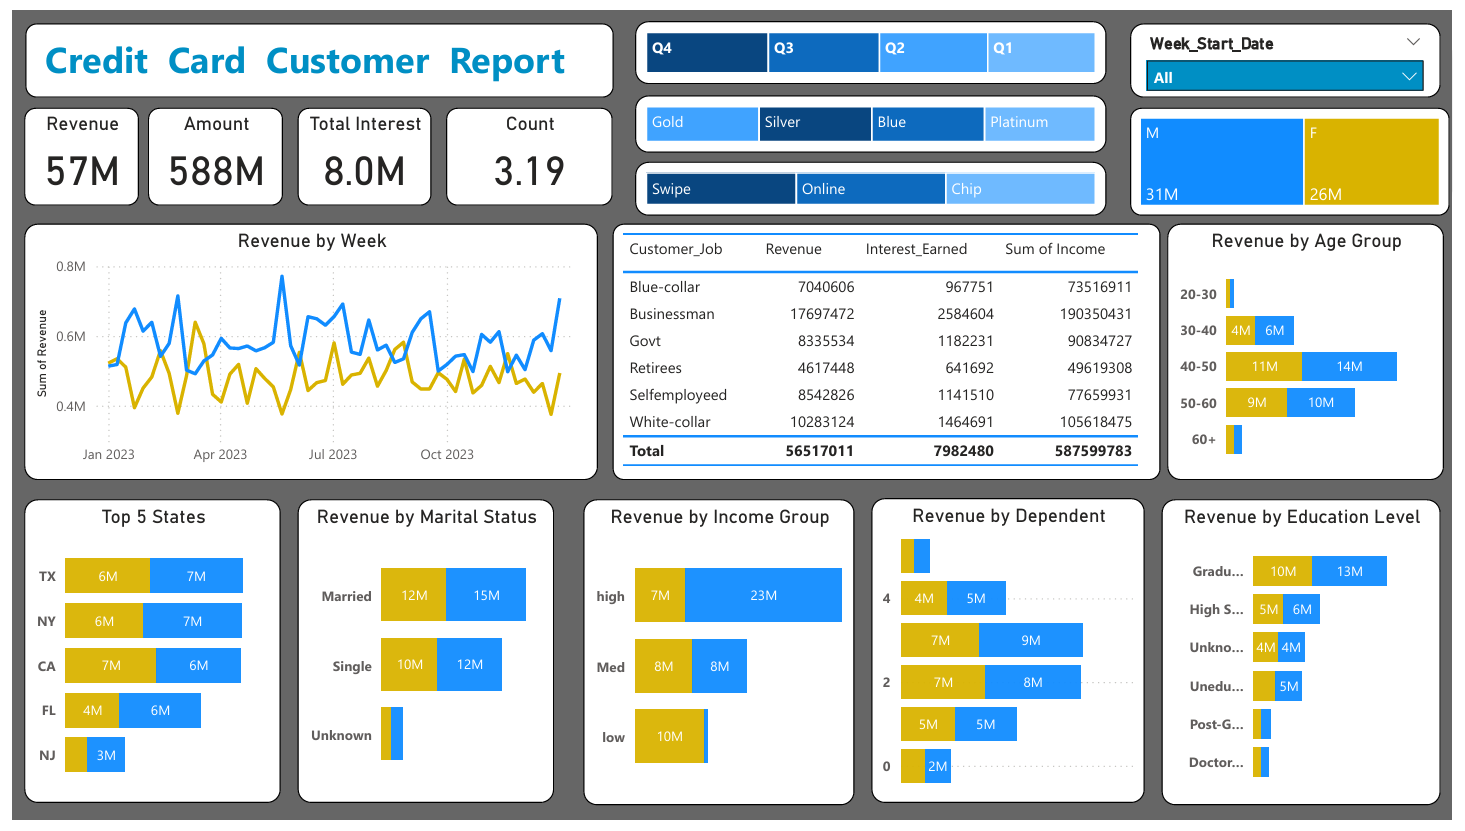

Layout of this report page (visuals, bound fields, positions):
{"tool":"powerbi","page":{"name":"CC Customer","canvas":[1280,720],"ordinal":2},"visuals":[{"type":"textbox","box":[11,11,522.8,65.9],"z":0},{"type":"barChart","title":"Revenue by Income Group","fields":{"Category":["credit_card cust_details.IncomeGroup"],"Y":["Sum(credit_card cc_details.Revenue)"],"Series":["credit_card cust_details.Gender"]},"box":[506.8,434.4,241.7,271.2],"z":1000},{"type":"tableEx","fields":{"Values":["credit_card cust_details.Customer_Job","Sum(credit_card cc_details.Revenue)","Sum(credit_card cc_details.Interest_Earned)","Sum(credit_card cust_details.Income)"]},"box":[532.5,189,487.1,228.2],"z":2000},{"type":"card","title":"Revenue","fields":{"Values":["Sum(credit_card cc_details.Revenue)"]},"box":[9.8,85.9,101.8,87.1],"z":3000},{"type":"card","title":"Amount","fields":{"Values":["Sum(credit_card cust_details.Income)"]},"box":[120.2,85.9,120.2,87.1],"z":4000},{"type":"card","title":"Total Interest","fields":{"Values":["Sum(credit_card cc_details.Interest_Earned)"]},"box":[252.8,85.9,119,87.1],"z":5000},{"type":"slicer","fields":{"Values":["credit_card cc_details.Week_Start_Date"]},"box":[992.6,11,276.1,66.3],"z":6000},{"type":"treemap","fields":{"Group":["credit_card cc_details.Qtr"],"Values":["Avg(credit_card cust_details.ï»¿Client_Num)"]},"box":[553.4,8.6,418.4,56.4],"z":7000},{"type":"treemap","fields":{"Group":["credit_card cc_details.Card_Category"],"Values":["Avg(credit_card cust_details.ï»¿Client_Num)"]},"box":[553.4,74.8,418.4,51.5],"z":8000},{"type":"card","title":"Count","fields":{"Values":["Avg(credit_card cust_details.Cust_Satisfaction_Score)"]},"box":[385.3,85.9,147.2,87.1],"z":9000},{"type":"lineChart","title":"Revenue by Week","fields":{"Y":["Sum(credit_card cc_details.Revenue)"],"Series":["credit_card cust_details.Gender"],"Category":["credit_card cc_details.Week_Start_Date.Variation.Date Hierarchy.Year","credit_card cc_details.Week_Start_Date.Variation.Date Hierarchy.Month","credit_card cc_details.Week_Start_Date.Variation.Date Hierarchy.Day"]},"box":[9.8,189,510.4,228.2],"z":10000},{"type":"treemap","fields":{"Group":["credit_card cust_details.Gender"],"Values":["Sum(credit_card cc_details.Revenue)"]},"box":[992.6,85.9,284.7,95.7],"z":11000},{"type":"barChart","title":"Revenue by Dependent","fields":{"Category":["credit_card cust_details.Dependent_Count"],"Y":["Sum(credit_card cc_details.Revenue)"],"Series":["credit_card cust_details.Gender"]},"box":[763.2,433.1,242.9,271.2],"z":12000},{"type":"barChart","title":"Revenue by Age Group","fields":{"Category":["credit_card cust_details.AgeGroup"],"Y":["Sum(credit_card cc_details.Revenue)"],"Series":["credit_card cust_details.Gender"]},"box":[1025.8,189,246.6,228.2],"z":13000},{"type":"barChart","title":"Revenue by Education Level","fields":{"Category":["credit_card cust_details.Education_Level"],"Y":["Sum(credit_card cc_details.Revenue)"],"Series":["credit_card cust_details.Gender"]},"box":[1020.9,434.4,247.9,271.2],"z":14000},{"type":"barChart","title":"Top 5 States","fields":{"Category":["credit_card cust_details.state_cd"],"Y":["Sum(credit_card cc_details.Revenue)"],"Series":["credit_card cust_details.Gender"]},"box":[9.8,434.4,228.2,269.9],"z":15000},{"type":"barChart","title":"Revenue by Marital Status","fields":{"Category":["credit_card cust_details.Marital_Status"],"Y":["Sum(credit_card cc_details.Revenue)"],"Series":["credit_card cust_details.Gender"]},"box":[252.8,434.4,228.2,269.9],"z":16000},{"type":"treemap","fields":{"Group":["credit_card cc_details.Use Chip"],"Values":["Avg(credit_card cust_details.ï»¿Client_Num)"]},"box":[553.4,133.7,418.4,47.9],"z":17000}]}

Visuals, with their boxes in screenshot pixels (x1, y1, x2, y2), scaled from the page's 1280x720 canvas onto the 1465x831 screenshot:
textbox: locate(13, 13, 611, 89)
"Revenue by Income Group" barChart: locate(580, 501, 857, 814)
tableEx - credit_card cust_details.Customer_Job x Sum(credit_card cc_details.Revenue): locate(609, 218, 1167, 482)
"Revenue" card: locate(11, 99, 128, 200)
"Amount" card: locate(138, 99, 275, 200)
"Total Interest" card: locate(289, 99, 426, 200)
slicer - credit_card cc_details.Week_Start_Date: locate(1136, 13, 1452, 89)
treemap - credit_card cc_details.Qtr x Avg(credit_card cust_details.ï»¿Client_Num): locate(633, 10, 1112, 75)
treemap - credit_card cc_details.Card_Category x Avg(credit_card cust_details.ï»¿Client_Num): locate(633, 86, 1112, 146)
"Count" card: locate(441, 99, 609, 200)
"Revenue by Week" lineChart: locate(11, 218, 595, 482)
treemap - credit_card cust_details.Gender x Sum(credit_card cc_details.Revenue): locate(1136, 99, 1462, 210)
"Revenue by Dependent" barChart: locate(874, 500, 1152, 813)
"Revenue by Age Group" barChart: locate(1174, 218, 1456, 482)
"Revenue by Education Level" barChart: locate(1168, 501, 1452, 814)
"Top 5 States" barChart: locate(11, 501, 272, 813)
"Revenue by Marital Status" barChart: locate(289, 501, 551, 813)
treemap - credit_card cc_details.Use Chip x Avg(credit_card cust_details.ï»¿Client_Num): locate(633, 154, 1112, 210)
